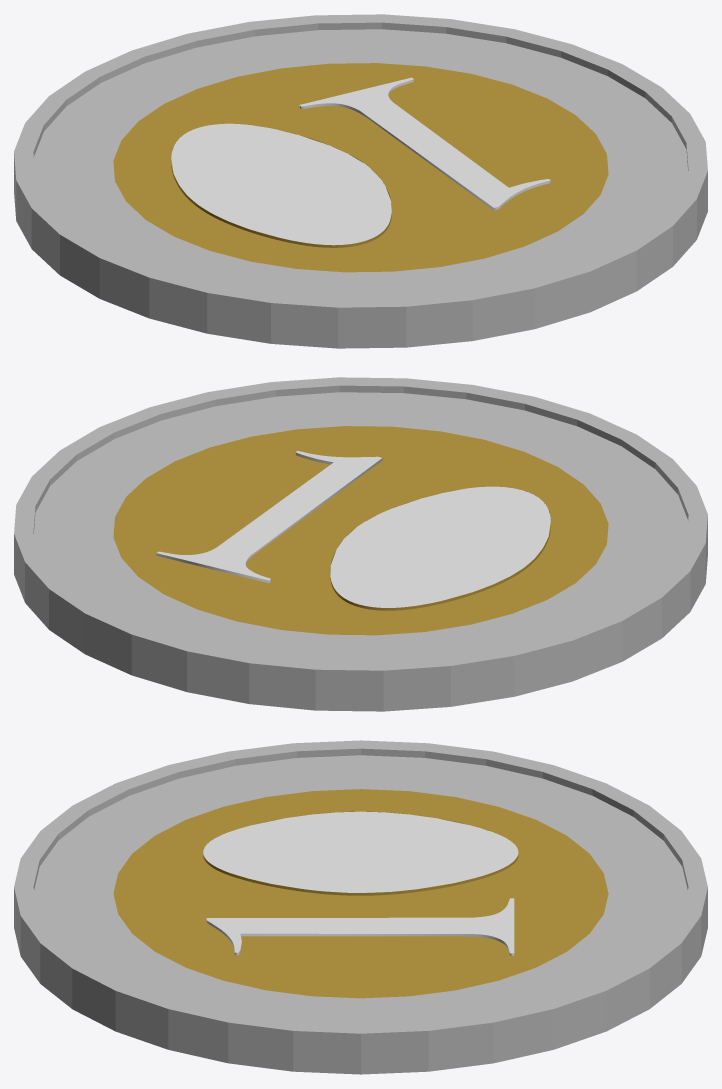
File: Dyes.fbx
The picture shows the model from 3 angles, top to bottom: view 1: azimuth 30°, elevation 25°; view 2: azimuth 150°, elevation 25°; view 3: azimuth 270°, elevation 25°; orthographic projection.
Parts seen in each view (by area): view 1: Dyes, Dyes Text; view 2: Dyes, Dyes Text; view 3: Dyes, Dyes Text.
Boxes of the visible parts, x1,y1,x2,y2 form: Dyes: (14, 14, 707, 348); Dyes Text: (171, 77, 550, 245); Dyes: (14, 377, 707, 711); Dyes Text: (156, 451, 550, 607); Dyes: (14, 740, 707, 1074); Dyes Text: (203, 811, 518, 955).
Bounding box in the file's own units: 2.79 × 0.181 × 2.79.
